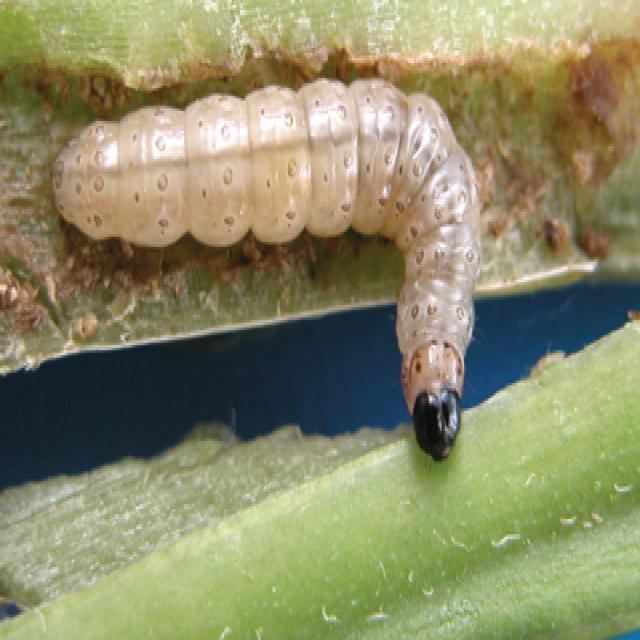cornborer-Larva-: (38, 67, 488, 464)
